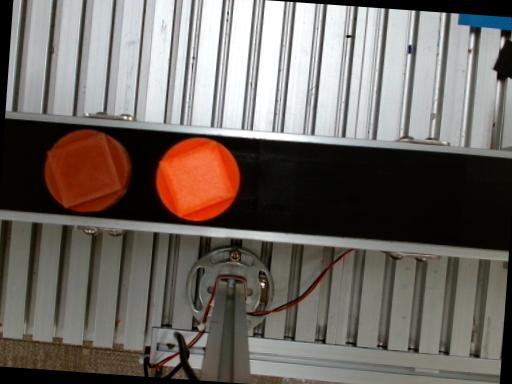Square: (159, 142, 237, 217), (45, 134, 122, 209)
